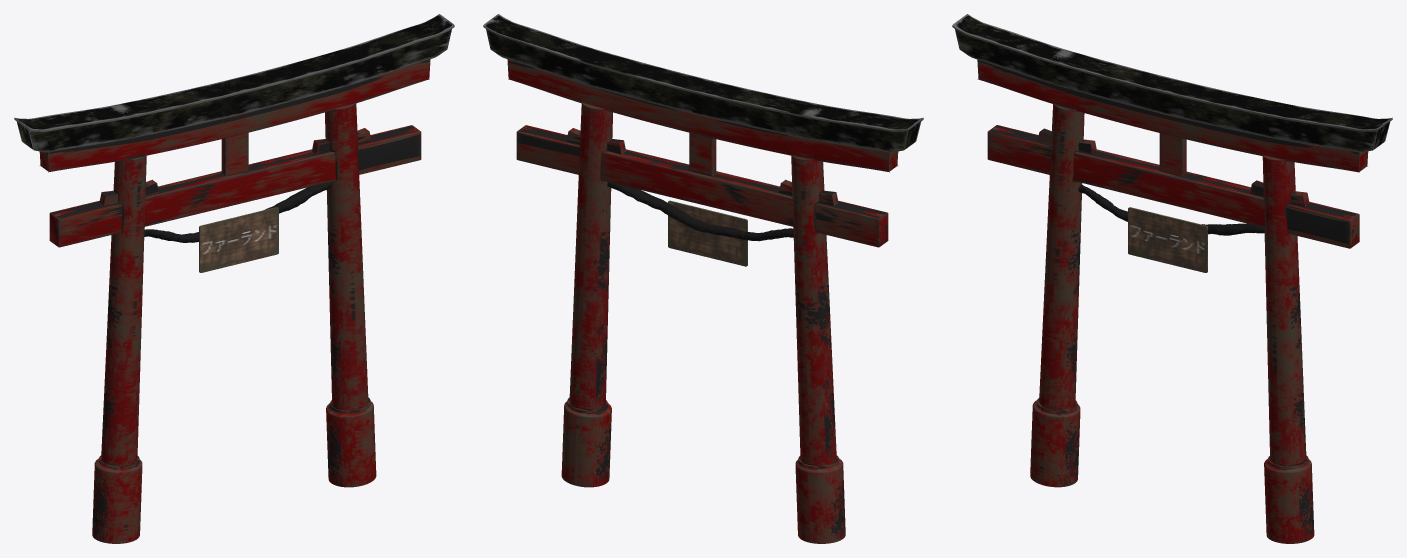
File: Torii_Gate.fbx
3 views of the same model, side by side, from view 1: azimuth 30°, elevation 25°; view 2: azimuth 150°, elevation 25°; view 3: azimuth 330°, elevation 25° (orthographic).
Visible parts, largest first — view 1: Cube.003; view 2: Cube.003; view 3: Cube.003.
Boxes of the visible parts, x1=… form: Cube.003: x1=14, y1=14, x2=454, y2=543; Cube.003: x1=483, y1=14, x2=923, y2=543; Cube.003: x1=952, y1=14, x2=1392, y2=543.
Size of the model in its own units: 2085 by 2039 by 190.
